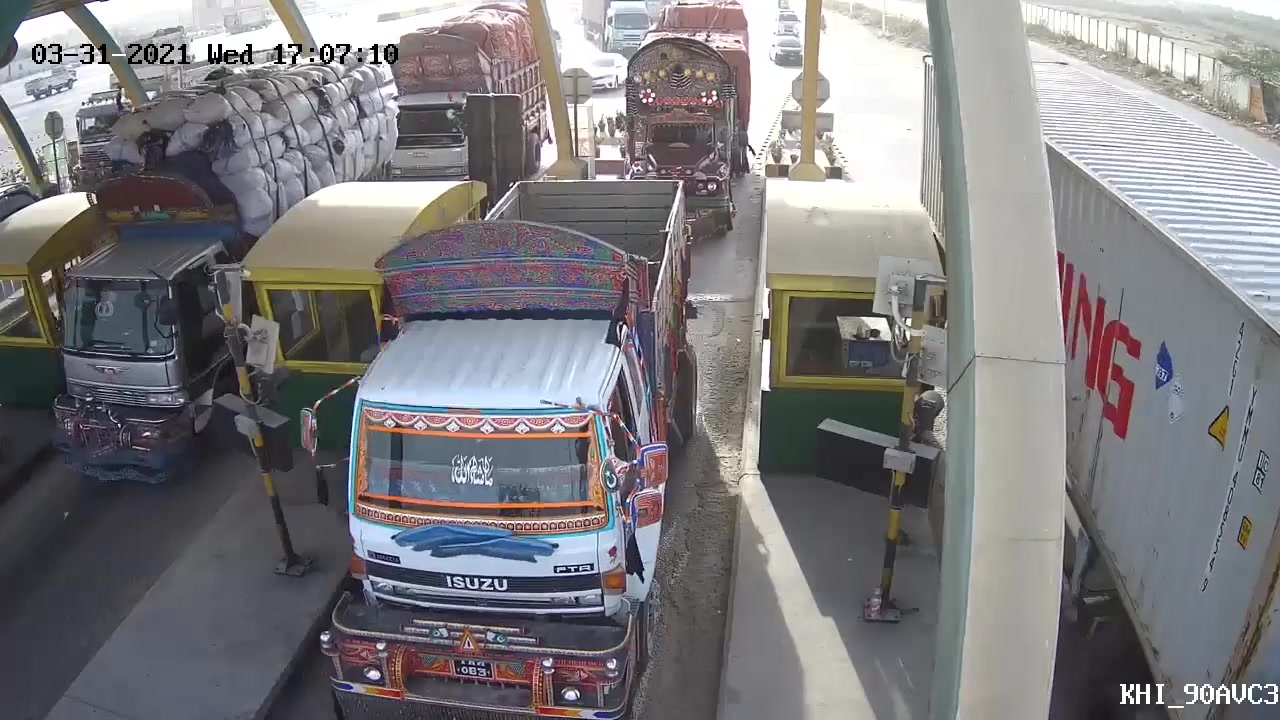F5: (313, 170, 717, 707)
